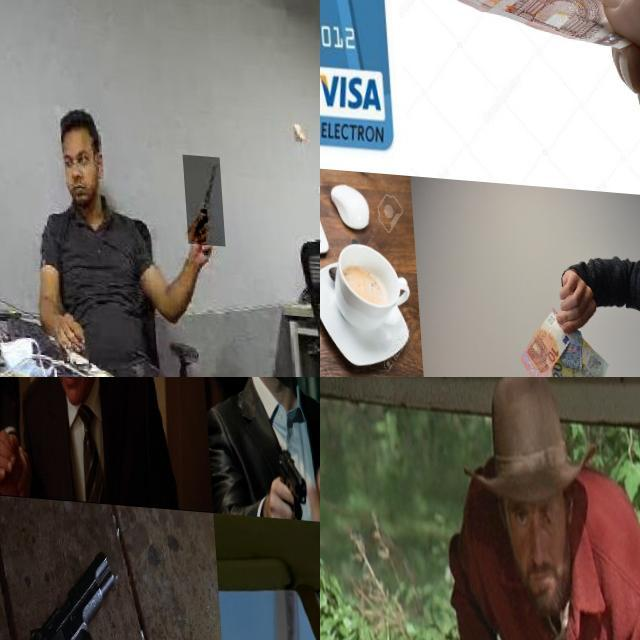-: (178, 150, 220, 240)
gun-knife-thesis - v11 Yolov5 augmented: (11, 519, 119, 640), (260, 437, 304, 513), (0, 377, 34, 426)
